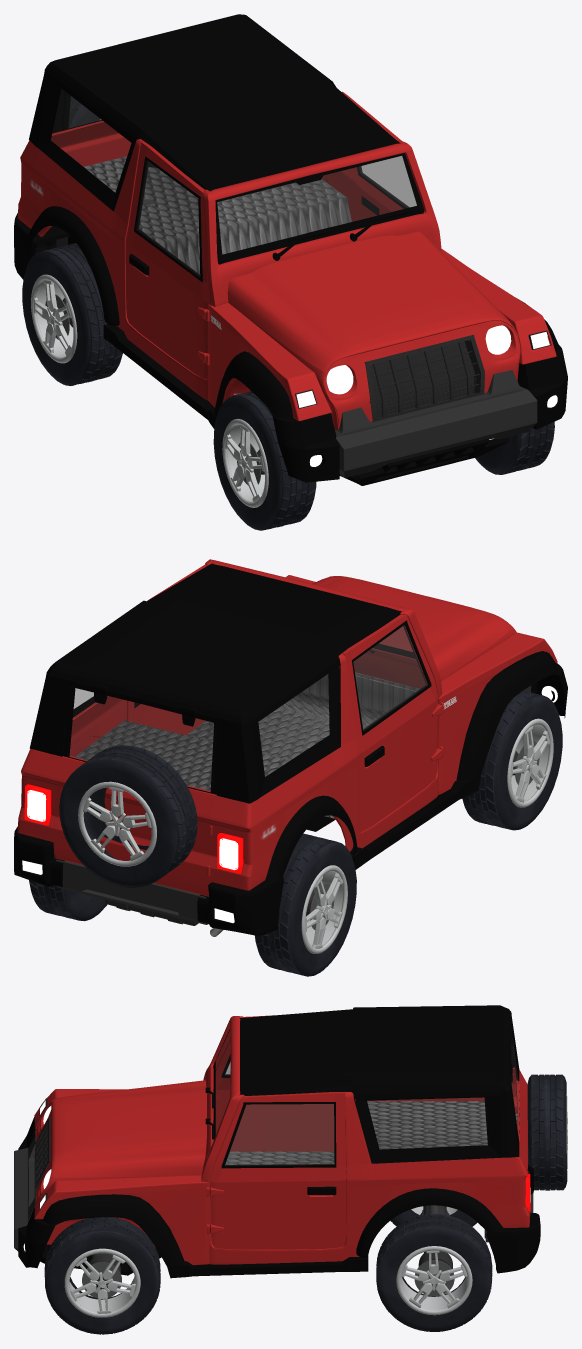
The model's file is mahindra_thar.glb.
3 renders of one model, top to bottom at view 1: azimuth 30°, elevation 25°; view 2: azimuth 150°, elevation 25°; view 3: azimuth 270°, elevation 25°, orthographic. The views are drawn at different scales.
Parts seen in each view (by area): view 1: Object_20, Object_16, Object_39, Object_41, Object_42, Object_18, Object_33, Object_45, Object_43, Object_4, Object_47, Object_28 (+17 smaller); view 2: Object_20, Object_41, Object_33, Object_39, Object_18, Object_42, Object_47, Object_31, Object_16, Object_43, Object_4, Object_27 (+11 smaller); view 3: Object_20, Object_18, Object_41, Object_16, Object_33, Object_39, Object_42, Object_47, Object_5, Object_31, Object_43, Object_21 (+15 smaller).
Part boxes in pixels (x1,y1,x2,y2): Object_20: [29, 14, 399, 211]; Object_16: [227, 231, 511, 372]; Object_39: [51, 89, 416, 276]; Object_41: [18, 131, 441, 400]; Object_42: [84, 156, 351, 394]; Object_18: [125, 91, 403, 379]; Object_33: [22, 96, 554, 529]; Object_45: [335, 370, 537, 477]; Object_43: [14, 213, 567, 482]; Object_4: [208, 302, 331, 421]; Object_47: [28, 176, 558, 418]; Object_28: [62, 92, 423, 282]; Object_20: [29, 563, 404, 803]; Object_41: [17, 559, 442, 896]; Object_33: [29, 691, 562, 975]; Object_39: [70, 625, 427, 791]; Object_18: [127, 564, 443, 875]; Object_42: [75, 673, 418, 818]; Object_47: [71, 651, 559, 879]; Object_31: [29, 690, 558, 921]; Object_16: [312, 576, 512, 680]; Object_43: [14, 663, 567, 935]; Object_4: [438, 632, 557, 794]; Object_27: [55, 755, 216, 895]; Object_20: [239, 1005, 519, 1163]; Object_18: [206, 1015, 346, 1249]; Object_41: [201, 1016, 530, 1264]; Object_16: [50, 1080, 206, 1177]; Object_33: [44, 1074, 567, 1333]; Object_39: [216, 1032, 519, 1165]; Object_42: [225, 1101, 517, 1164]; Object_47: [42, 1188, 503, 1266]; Object_5: [34, 1175, 209, 1265]; Object_31: [376, 1074, 563, 1331]; Object_43: [18, 1117, 540, 1273]; Object_21: [167, 1256, 368, 1278].
Size of the model in its own units: 14.51 by 13.63 by 28.9.
42 materials, 30 textured.
